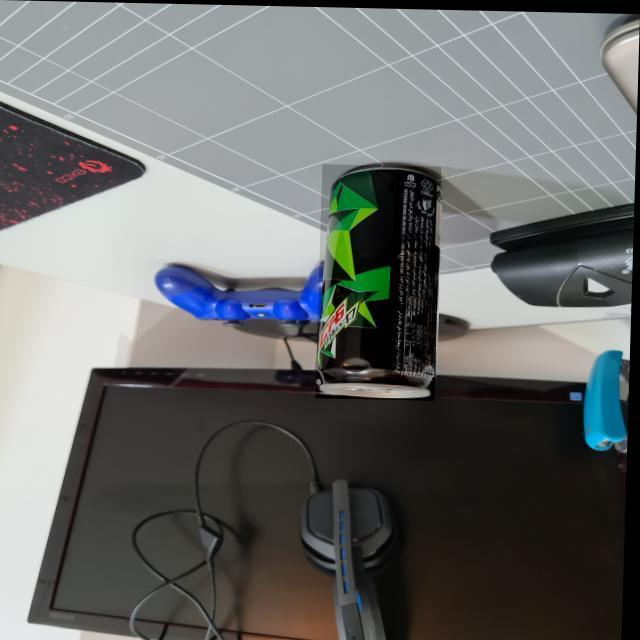trash: (320, 162, 436, 400)
